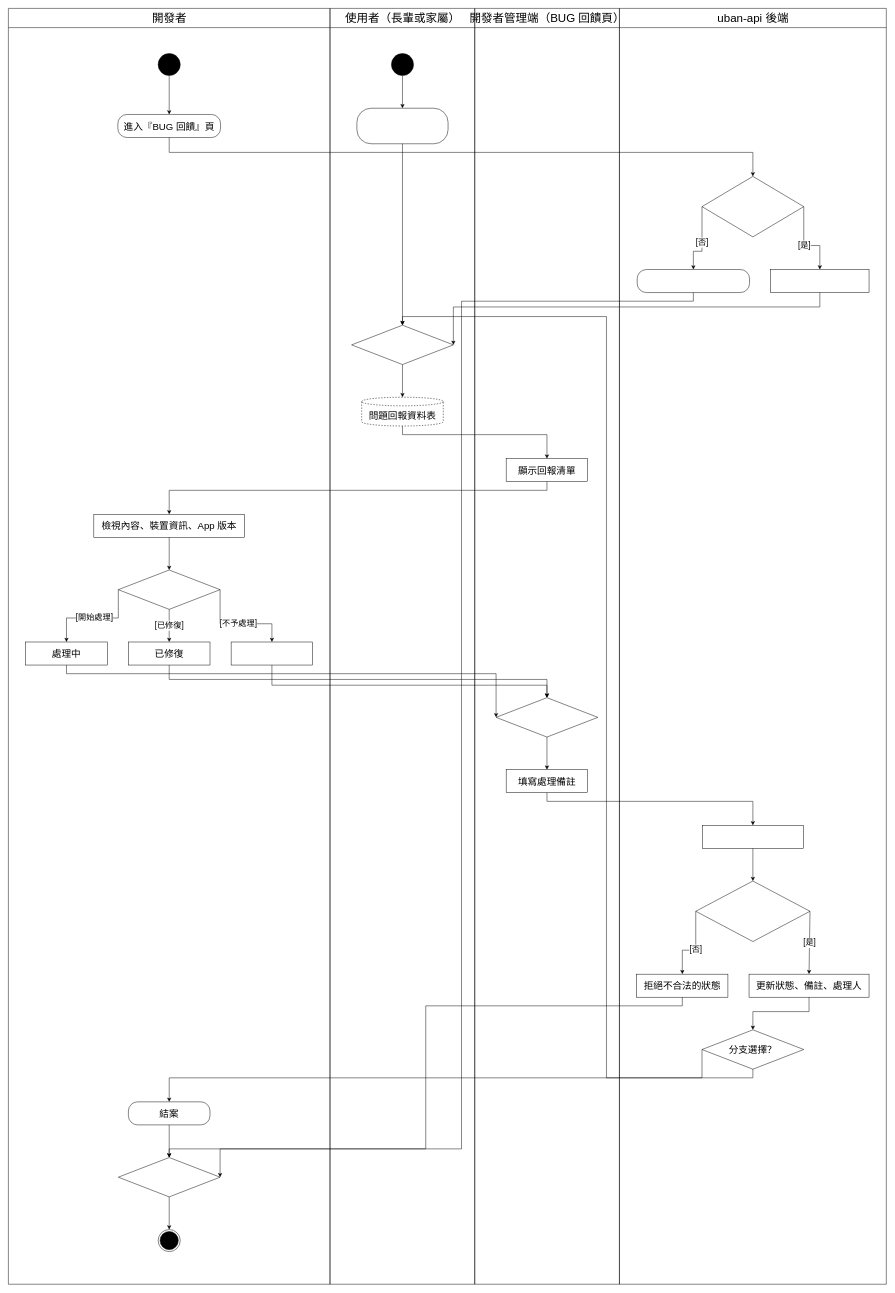
Image size: 895x1293. Some labels were removed from this diagram. Here are the shapes that lost their labels. From the top down, the centre of each, then its label:
At (x=402, y=126): "送出 BUG 回報 （狀態：新回報）".
At (x=753, y=206): "開發者身分 驗證通過？".
At (x=693, y=281): "401 未授權，擋下請求".
At (x=819, y=281): "查詢 BUG 回報清單".
At (x=169, y=589): "判定結果？".
At (x=272, y=653): "不予處理".
At (x=752, y=836): "更新處理狀態與備註".
At (x=752, y=911): "狀態值 是否在白名單內？".
